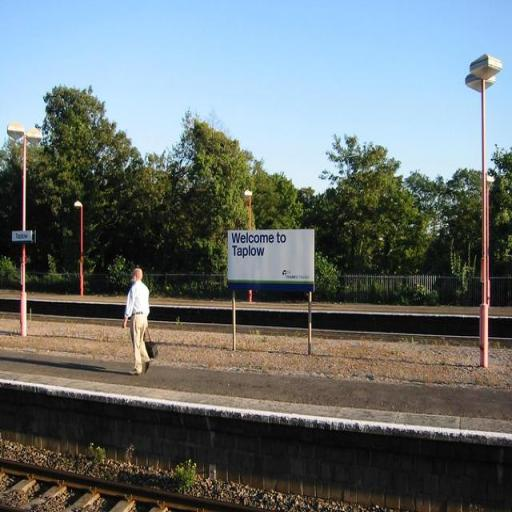platform_edge: (1, 352, 512, 462)
